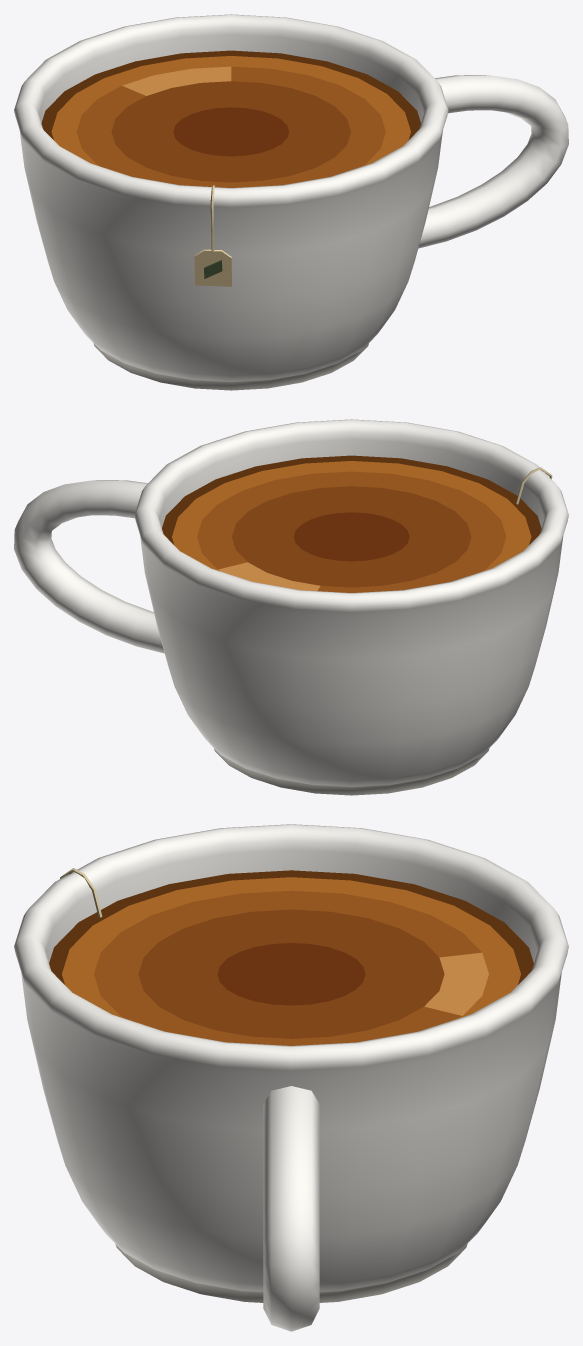
File: tea_cup.glb
The picture shows the model from 3 angles, top to bottom: view 1: azimuth 30°, elevation 25°; view 2: azimuth 150°, elevation 25°; view 3: azimuth 270°, elevation 25°; orthographic projection. The views are drawn at different scales.
Visible parts, largest first — view 1: tea_cup, tea_cup-tea; view 2: tea_cup, tea_cup-tea; view 3: tea_cup, tea_cup-tea.
Part boxes in pixels (left/top/right/bottom): tea_cup: left=14, top=14, right=568, bottom=390; tea_cup-tea: left=41, top=50, right=420, bottom=187; tea_cup: left=14, top=419, right=568, bottom=795; tea_cup-tea: left=162, top=455, right=541, bottom=592; tea_cup: left=14, top=824, right=568, bottom=1331; tea_cup-tea: left=49, top=870, right=533, bottom=1045.
Size of the model in its own units: 0.1854 by 0.0792 by 0.1335.
Materials: 1 (1 with a texture image).
